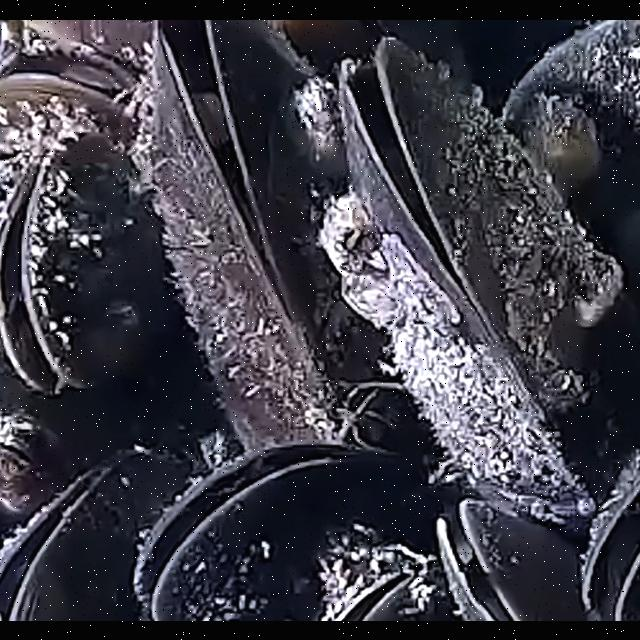Oyster-Closed: (493, 19, 640, 283)
Oyster-Open: (315, 34, 640, 524), (129, 19, 393, 455), (130, 438, 404, 620), (0, 138, 148, 394), (0, 446, 196, 620), (0, 36, 146, 180), (432, 496, 586, 620), (576, 446, 640, 620), (329, 558, 417, 620)
